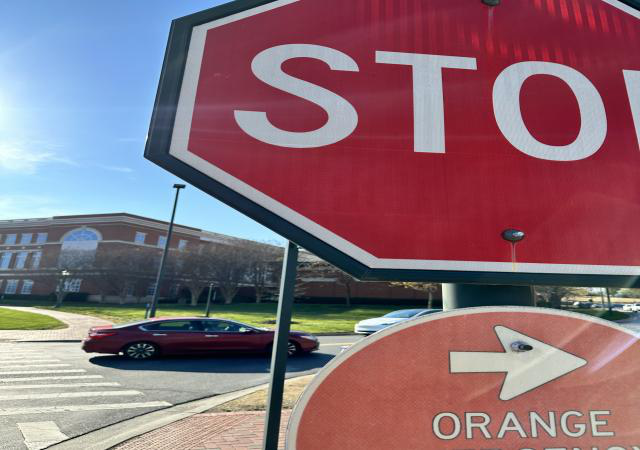not_stop: (288, 308, 640, 450)
stop: (145, 2, 640, 290)
